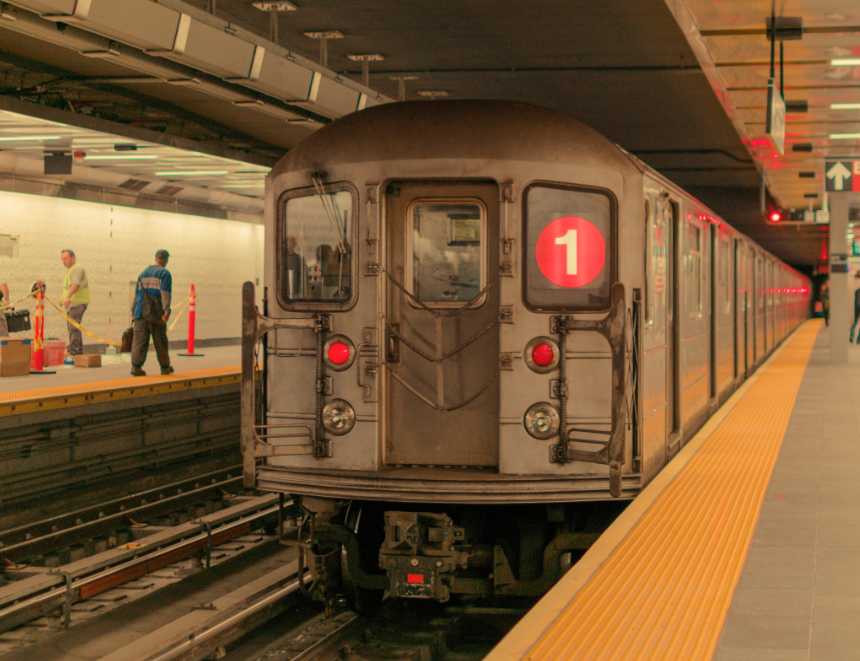train: (241, 96, 654, 488)
